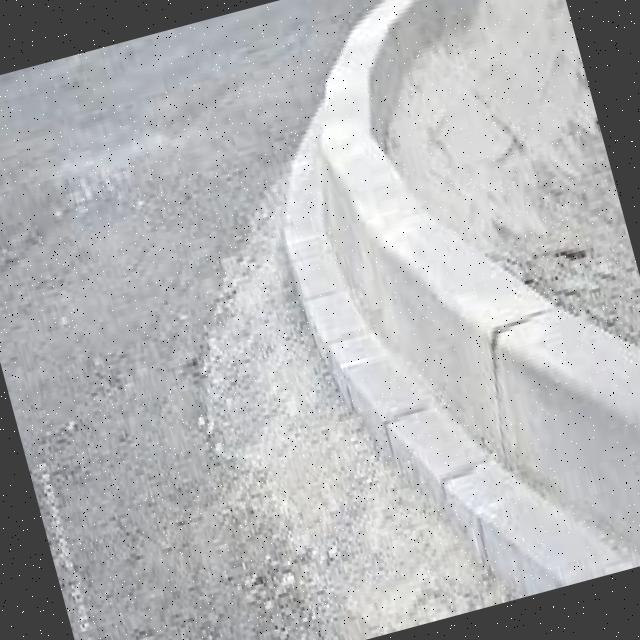curb: (282, 164, 554, 478), (413, 276, 640, 601), (277, 95, 396, 206), (302, 25, 396, 125), (334, 1, 487, 59)
